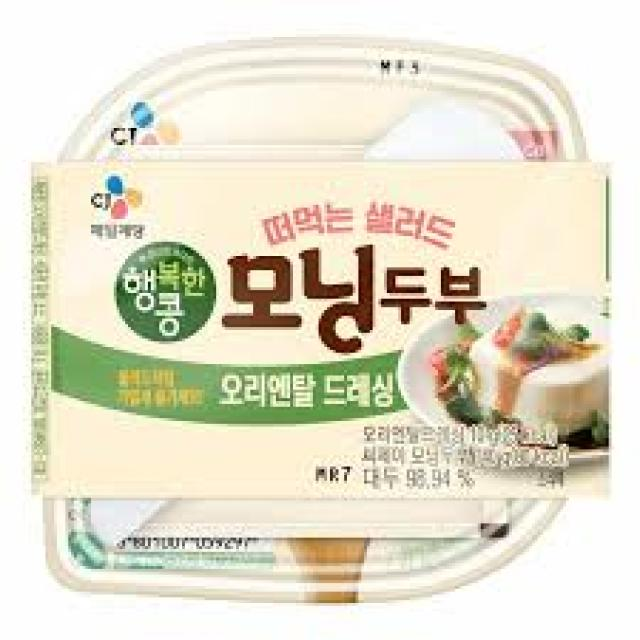tofu: (26, 158, 615, 521)
